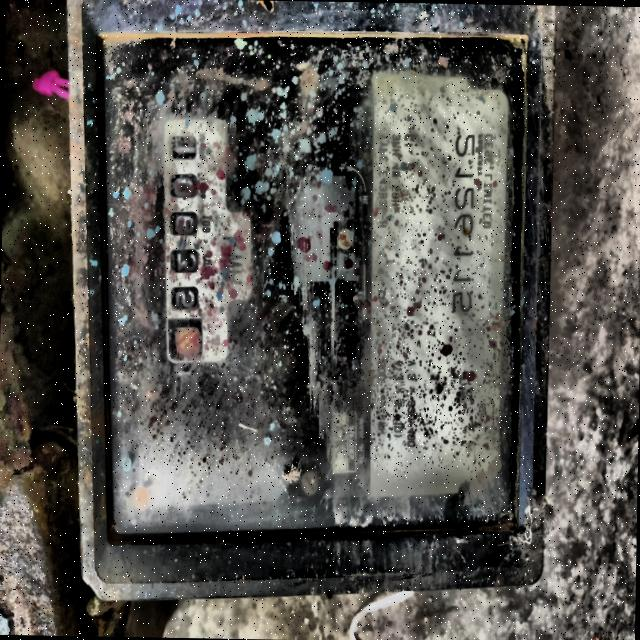Analog: (78, 0, 553, 596)
Reading: (165, 126, 203, 361)
Serial No.: (451, 132, 476, 314)
